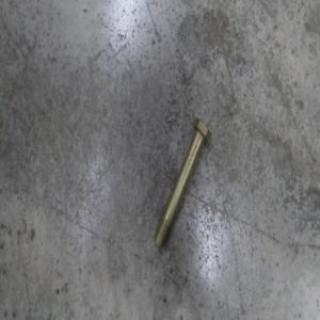Bolttrack_idkeyframe: (152, 115, 210, 250)
